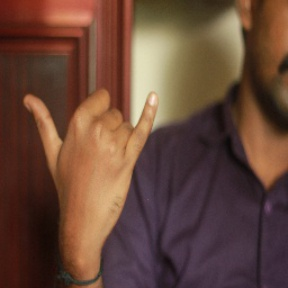J: (23, 63, 161, 220)
